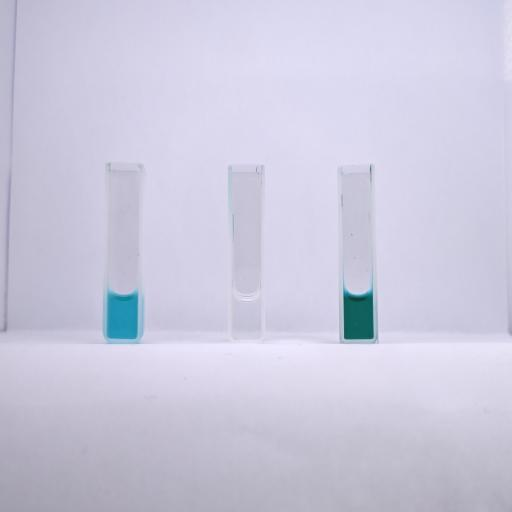cuvette: (335, 161, 380, 347), (101, 158, 144, 345), (225, 162, 268, 346)
liquid: (107, 292, 138, 338), (344, 291, 374, 338), (232, 294, 260, 338)
